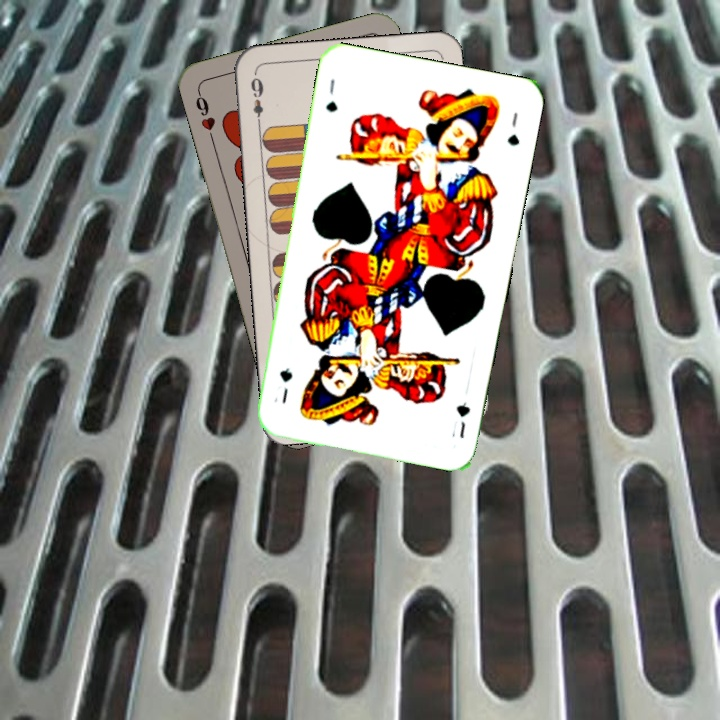E9: (246, 70, 266, 129)
GU: (447, 398, 473, 441), (321, 75, 341, 115)
H9: (191, 87, 218, 145)
